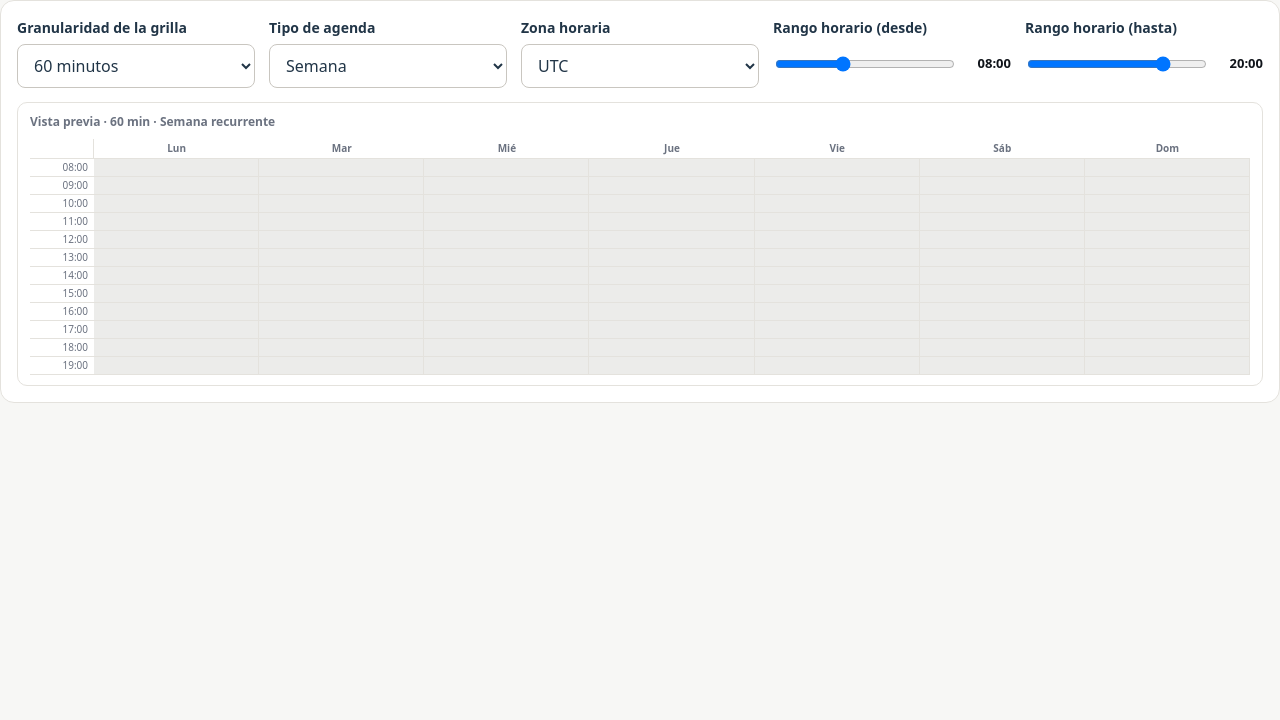
it: MeetingOptions (panel del creador en el popup) › cambiar la granularidad pide confirmación de borrado
The width and height of the screenshot is (1280, 720).
Step 1. Select "30 minutos" in the dropdown labelled "Granularidad de la grilla" → {"x": 136, "y": 66}, box x1=17 y1=44 x2=255 y2=88
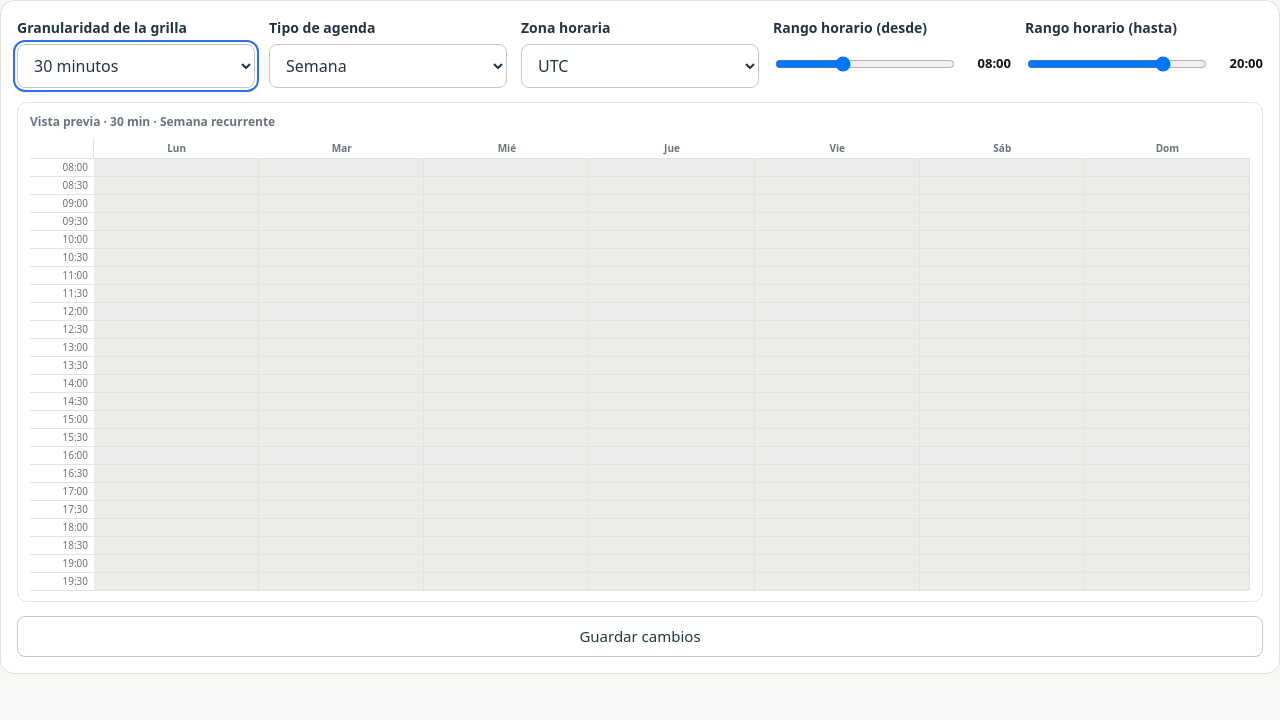
Step 2. Click the button "Guardar cambios" → {"x": 640, "y": 636}, box x1=17 y1=616 x2=1263 y2=656
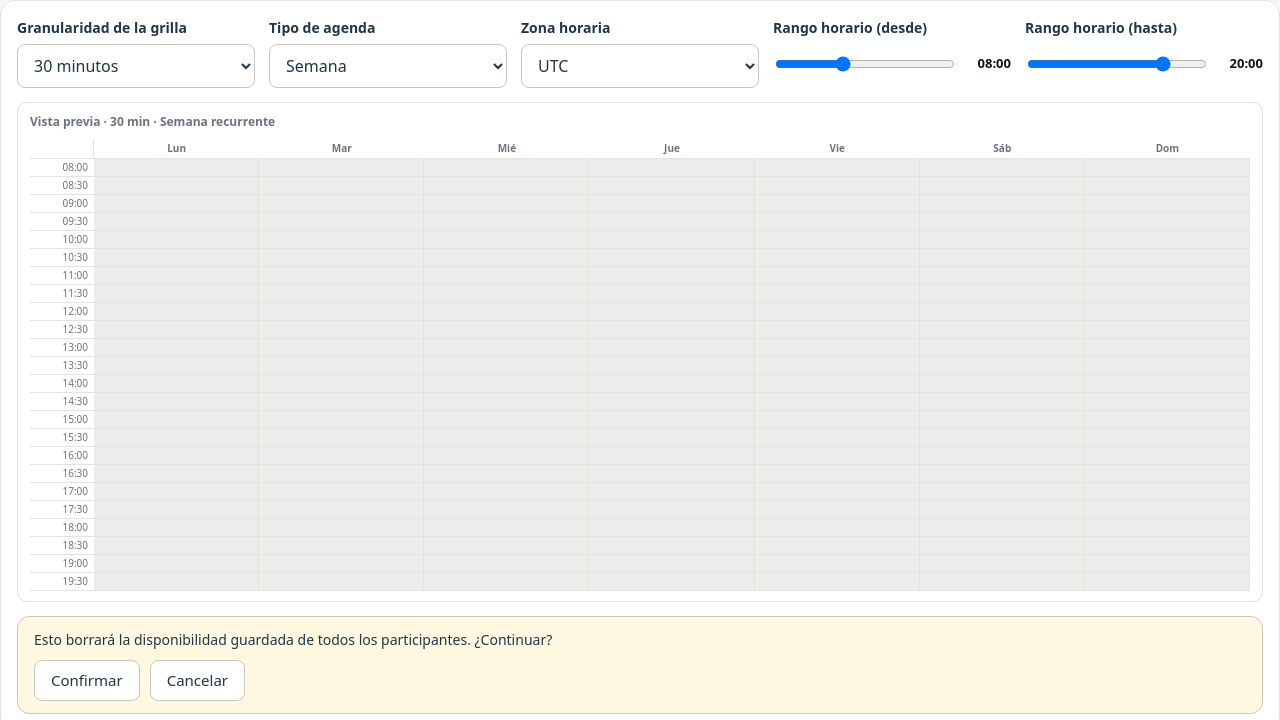
Result: the text "Esto borrará la disponibilidad guardada de todos los participantes" is shown at x1=34 y1=630 x2=552 y2=649
